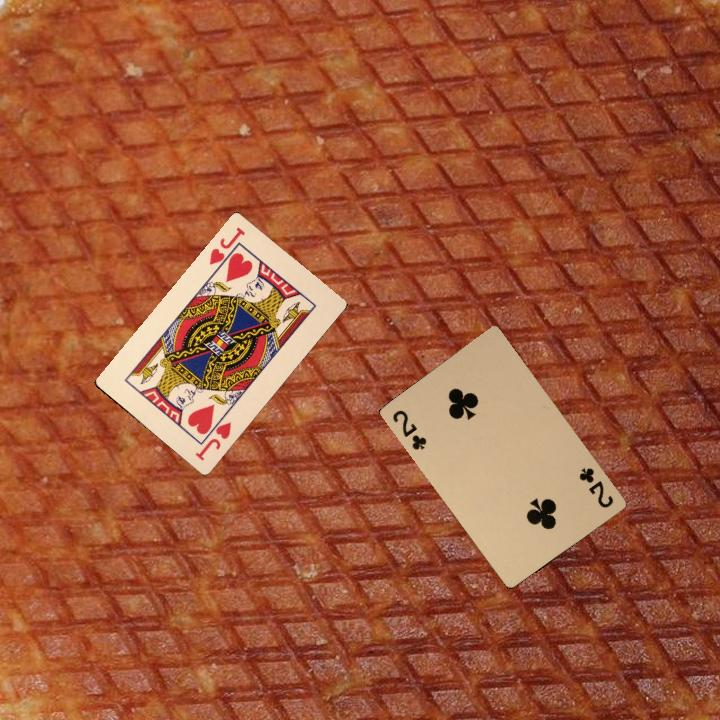2c: (575, 463, 616, 511), (388, 406, 429, 453)
Jh: (191, 411, 234, 463), (205, 223, 248, 268)
